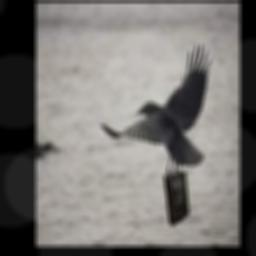Crow: (100, 43, 212, 174)
